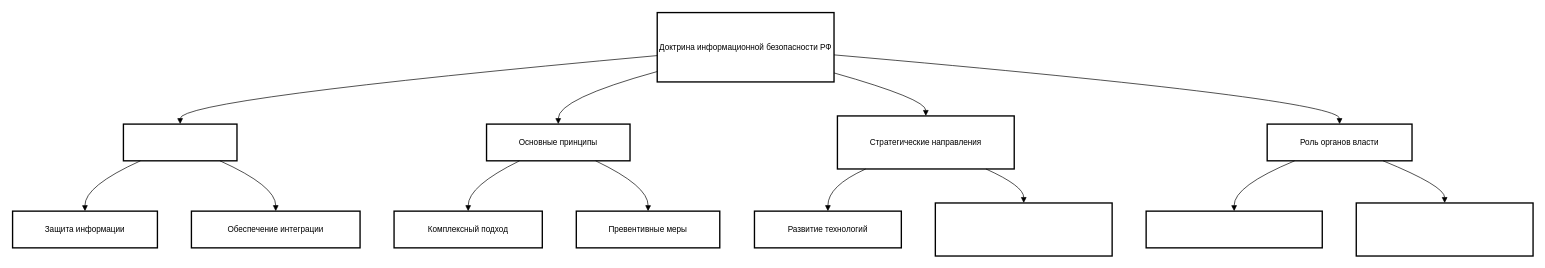
The diagram is 1545 pixels wide and 268 high, and some of its shapes have lost their labels. The shapes that lost their labels are listed below. From the top down, each one's centre as x and y in pixels, then its label:
pixel 179 142: Цели и задачи
pixel 1023 229: Укрепление сотрудничества
pixel 1234 229: Государственная политика
pixel 1444 229: Международное взаимодействие
